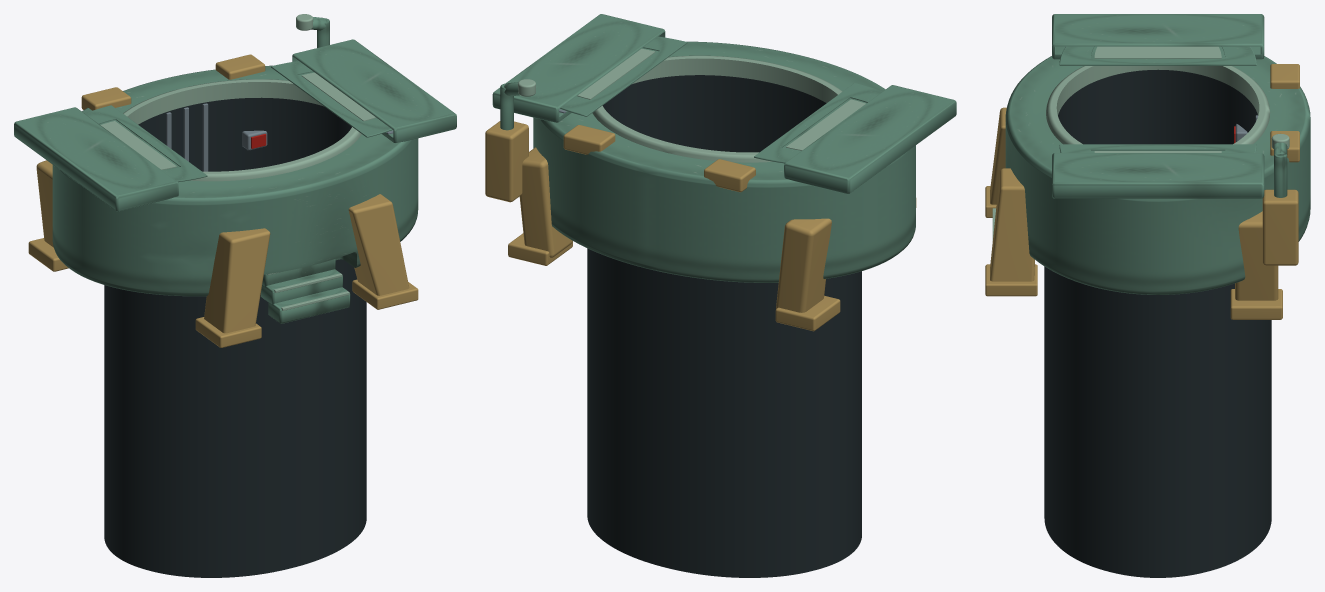
Rendered from descriptor-12.glb.
3 renders of one model, left to right at view 1: azimuth 30°, elevation 25°; view 2: azimuth 150°, elevation 25°; view 3: azimuth 270°, elevation 25°, orthographic. The views are drawn at different scales.
Parts seen in each view (by area): view 1: RI10 shaft wall below ground, RI10 fixed oval body, RI10 enclosed side cover cassette, RI10 enclosed side cover cassette.001, RI10 green aperture coaming, RI10 front splayed brass buttress, RI10 front splayed brass buttress.001, RI10 right cover shell inner segment, RI10 left cover shell inner segment, RI10 front access step 0, RI10 front access step 1, RI10 rear brass load-bearing buttress (+8 smaller); view 2: RI10 shaft wall below ground, RI10 fixed oval body, RI10 enclosed side cover cassette, RI10 enclosed side cover cassette.001, RI10 green aperture coaming, RI10 rear brass load-bearing buttress, RI10 rear brass load-bearing buttress.001, RI10 right equipment mast foundation, RI10 right cover shell inner segment, RI10 left cover shell inner segment, RI10 rear brass foot flange, RI10 rear brass shoulder cap (+4 smaller); view 3: RI10 shaft wall below ground, RI10 fixed oval body, RI10 enclosed side cover cassette.001, RI10 enclosed side cover cassette, RI10 green aperture coaming, RI10 front splayed brass buttress.001, RI10 right equipment mast foundation, RI10 rear brass load-bearing buttress.001, RI10 left cover shell inner segment, RI10 recessed green cover field inner segment, RI10 right cover shell inner segment, RI10 rear brass foot flange.001 (+5 smaller).
Boxes of the visible parts, x1=… form: RI10 shaft wall below ground: x1=104, y1=97, x2=366, y2=577; RI10 fixed oval body: x1=52, y1=65, x2=418, y2=296; RI10 enclosed side cover cassette: x1=14, y1=107, x2=178, y2=211; RI10 enclosed side cover cassette.001: x1=292, y1=39, x2=456, y2=142; RI10 green aperture coaming: x1=123, y1=79, x2=361, y2=181; RI10 front splayed brass buttress: x1=204, y1=228, x2=270, y2=333; RI10 front splayed brass buttress.001: x1=348, y1=194, x2=409, y2=295; RI10 right cover shell inner segment: x1=271, y1=61, x2=392, y2=137; RI10 left cover shell inner segment: x1=85, y1=105, x2=207, y2=182; RI10 front access step 0: x1=268, y1=287, x2=350, y2=323; RI10 front access step 1: x1=261, y1=269, x2=342, y2=304; RI10 rear brass load-bearing buttress: x1=36, y1=160, x2=53, y2=247; RI10 shaft wall below ground: x1=587, y1=75, x2=861, y2=577; RI10 fixed oval body: x1=533, y1=41, x2=915, y2=282; RI10 enclosed side cover cassette: x1=784, y1=85, x2=956, y2=193; RI10 enclosed side cover cassette.001: x1=492, y1=14, x2=665, y2=122; RI10 green aperture coaming: x1=592, y1=55, x2=842, y2=162; RI10 rear brass load-bearing buttress: x1=776, y1=218, x2=831, y2=312; RI10 rear brass load-bearing buttress.001: x1=519, y1=147, x2=572, y2=257; RI10 right equipment mast foundation: x1=485, y1=121, x2=528, y2=202; RI10 right cover shell inner segment: x1=560, y1=36, x2=687, y2=116; RI10 left cover shell inner segment: x1=754, y1=83, x2=882, y2=163; RI10 rear brass foot flange: x1=775, y1=295, x2=840, y2=331; RI10 rear brass shoulder cap: x1=704, y1=159, x2=755, y2=192; RI10 shaft wall below ground: x1=1044, y1=69, x2=1271, y2=577; RI10 fixed oval body: x1=1005, y1=56, x2=1310, y2=294; RI10 enclosed side cover cassette.001: x1=1052, y1=153, x2=1264, y2=198; RI10 enclosed side cover cassette: x1=1052, y1=14, x2=1264, y2=59; RI10 green aperture coaming: x1=1046, y1=66, x2=1270, y2=144; RI10 front splayed brass buttress.001: x1=990, y1=168, x2=1034, y2=281; RI10 right equipment mast foundation: x1=1262, y1=189, x2=1298, y2=265; RI10 rear brass load-bearing buttress.001: x1=1235, y1=211, x2=1278, y2=300; RI10 left cover shell inner segment: x1=1059, y1=46, x2=1256, y2=65; RI10 recessed green cover field inner segment: x1=1094, y1=46, x2=1221, y2=58; RI10 right cover shell inner segment: x1=1059, y1=144, x2=1256, y2=152; RI10 rear brass foot flange.001: x1=1230, y1=289, x2=1282, y2=319.
Size of the model in its own units: 2.7 by 3.31 by 2.17.
7 materials, 2 textured.
